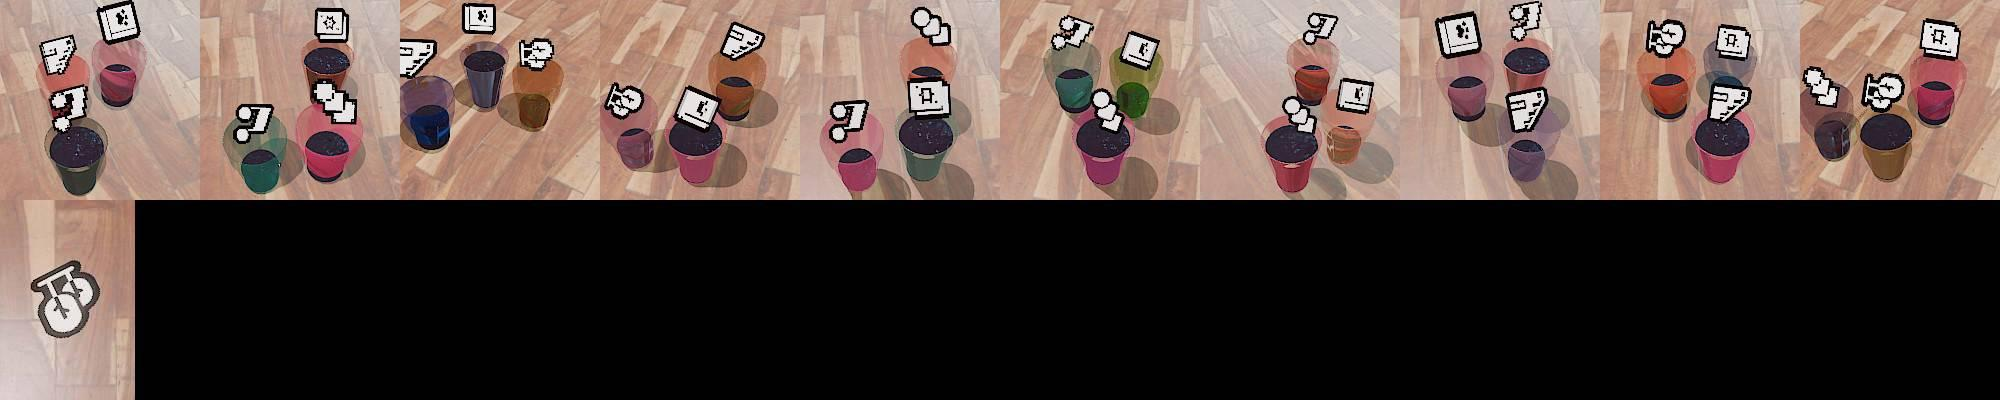icon: (29, 260, 101, 341), (1434, 10, 1482, 59), (673, 84, 722, 131), (1707, 78, 1753, 124), (311, 79, 357, 122), (94, 1, 140, 45), (1506, 87, 1548, 134), (48, 84, 89, 131), (719, 20, 767, 61), (828, 98, 870, 143), (1861, 70, 1906, 112), (1119, 29, 1161, 73), (395, 38, 436, 82), (911, 5, 952, 47), (907, 78, 950, 117), (1801, 65, 1841, 108), (232, 101, 274, 140), (1920, 19, 1959, 61), (1647, 18, 1686, 59), (1335, 75, 1375, 116), (603, 80, 645, 118), (40, 34, 78, 76), (1091, 87, 1125, 132), (1052, 14, 1094, 51), (1281, 94, 1319, 134), (1714, 23, 1753, 61), (1509, 1, 1543, 42), (1301, 10, 1339, 46), (519, 36, 556, 71), (314, 8, 348, 42), (462, 3, 497, 36)
